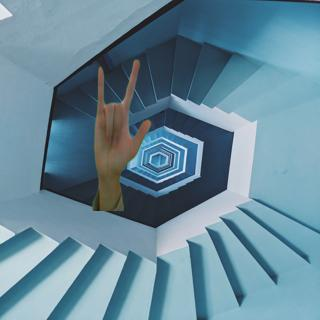ILY: (91, 57, 154, 179)
